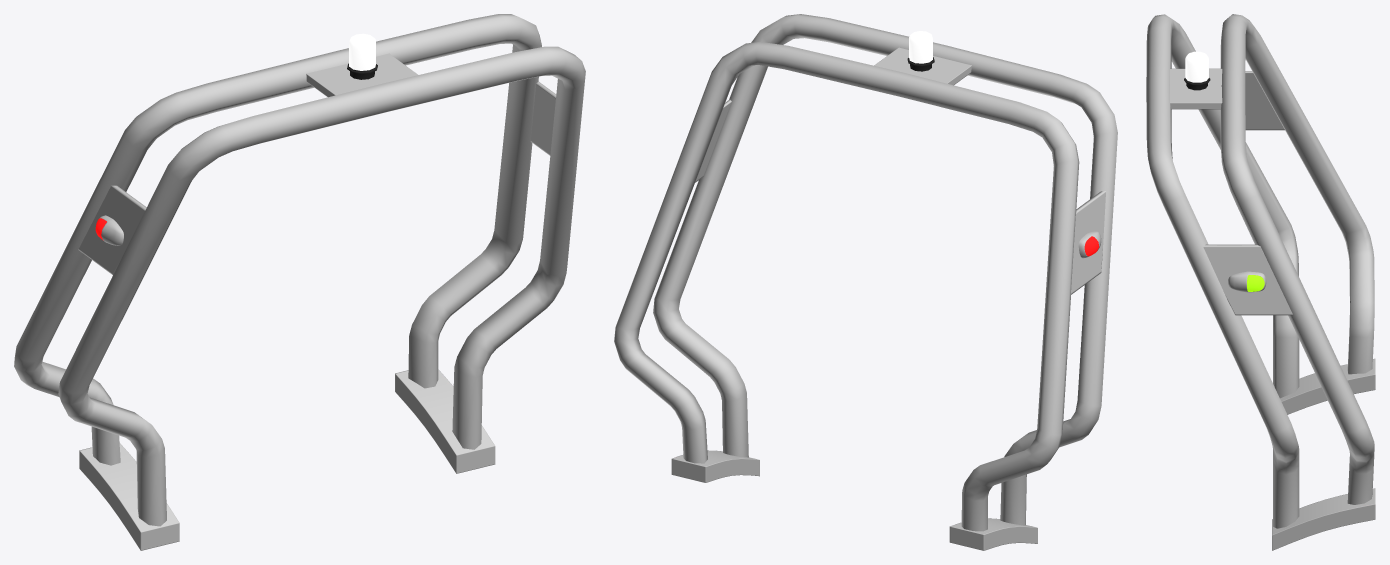
The model's file is lightBarArch.glb.
3 renders of one model, left to right at view 1: azimuth 30°, elevation 25°; view 2: azimuth 150°, elevation 25°; view 3: azimuth 270°, elevation 25°, orthographic. The views are drawn at different scales.
Visible parts, largest first — view 1: 330 lightbar arc; view 2: 330 lightbar arc; view 3: 330 lightbar arc.
Part boxes in pixels (box(x1,y1,x2,y2)): 330 lightbar arc: box(14, 14, 585, 550); 330 lightbar arc: box(614, 14, 1117, 550); 330 lightbar arc: box(1146, 14, 1375, 550).
Bounding box in the file's own units: 2.64 × 2.51 × 1.23.
1 material, 1 textured.
